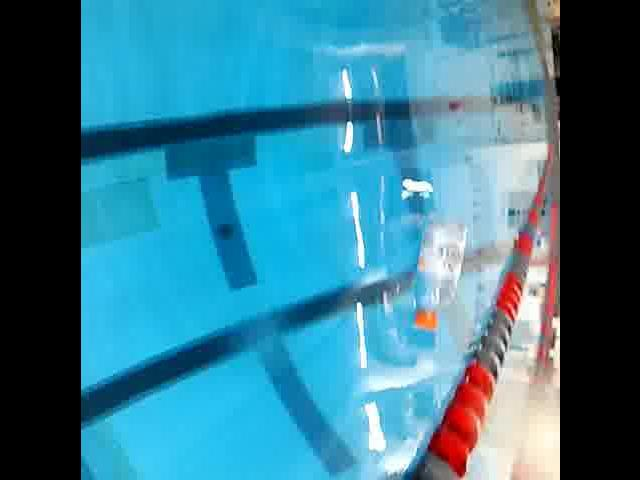Bottle: (402, 216, 472, 334)
